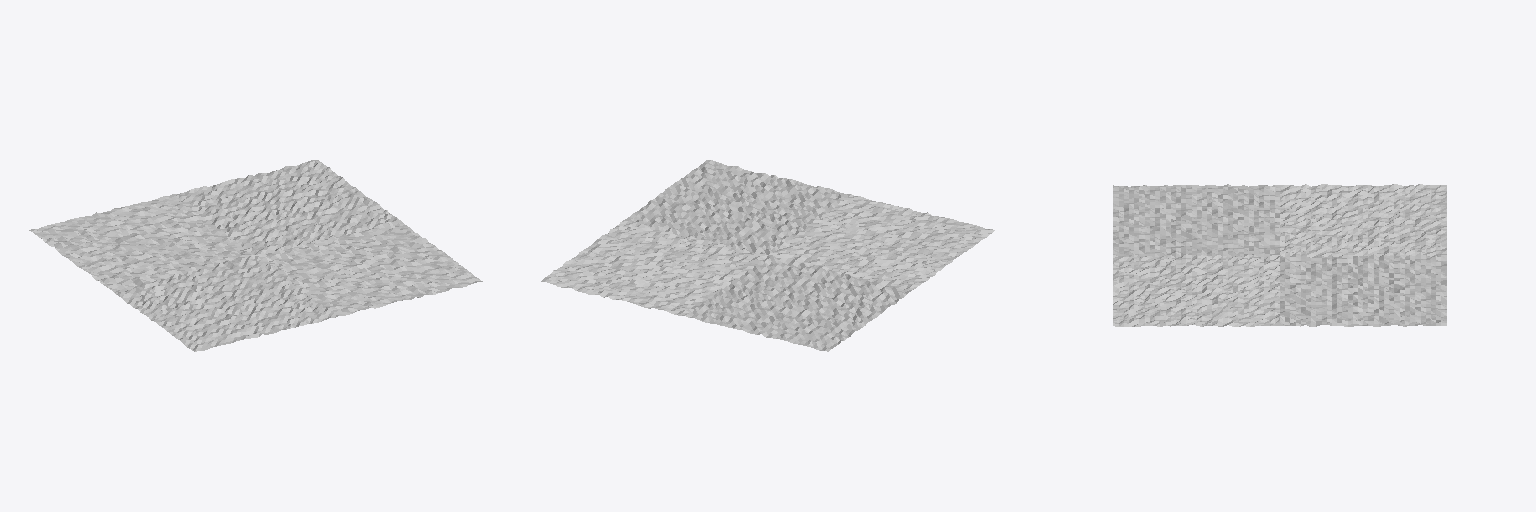
Rendered from leather high.obj.
The picture shows the model from 3 angles: view 1: azimuth 30°, elevation 25°; view 2: azimuth 150°, elevation 25°; view 3: azimuth 270°, elevation 25°; orthographic projection.
Parts seen in each view (by area): view 1: leather_height_Plane.005; view 2: leather_height_Plane.005; view 3: leather_height_Plane.005.
Part boxes in pixels (left/top/right/bottom): leather_height_Plane.005: left=29, top=160, right=482, bottom=351; leather_height_Plane.005: left=541, top=160, right=994, bottom=351; leather_height_Plane.005: left=1113, top=184, right=1446, bottom=326.
Bounding box in the file's own units: 2 × 0.025 × 2.